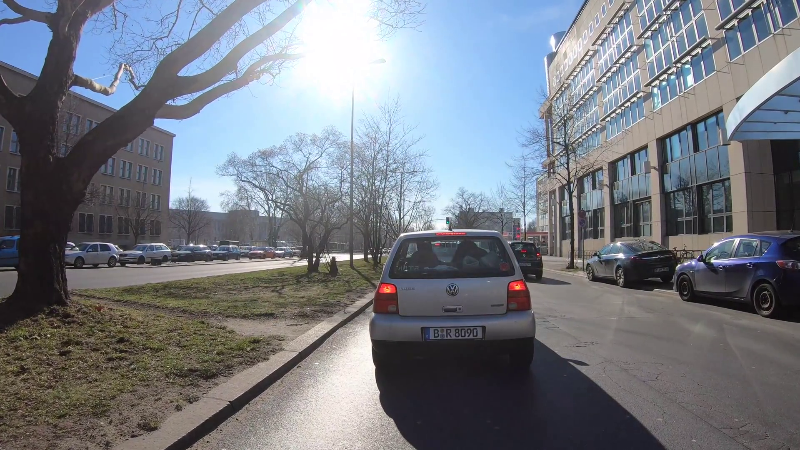Plate: (420, 324, 484, 339), (651, 266, 671, 274), (518, 260, 531, 267)
